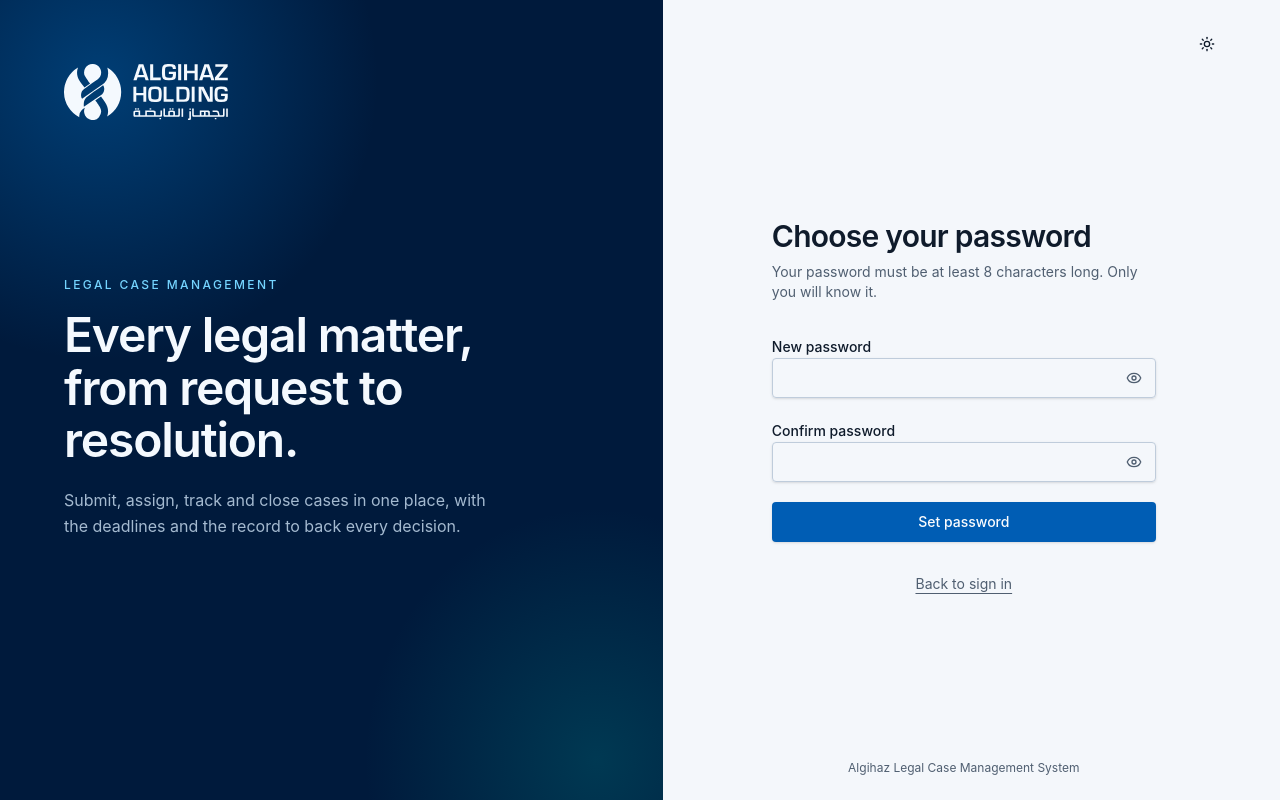
Test: SetPasswordPage › rejects a password shorter than 8 characters
This screenshot has width=1280, height=800.
Expected: the heading "Choose your password" is shown, [772,218,1091,254]
Type "short" into the password field labelled "New password". click: (964, 378)
box: [772,358,1156,398]
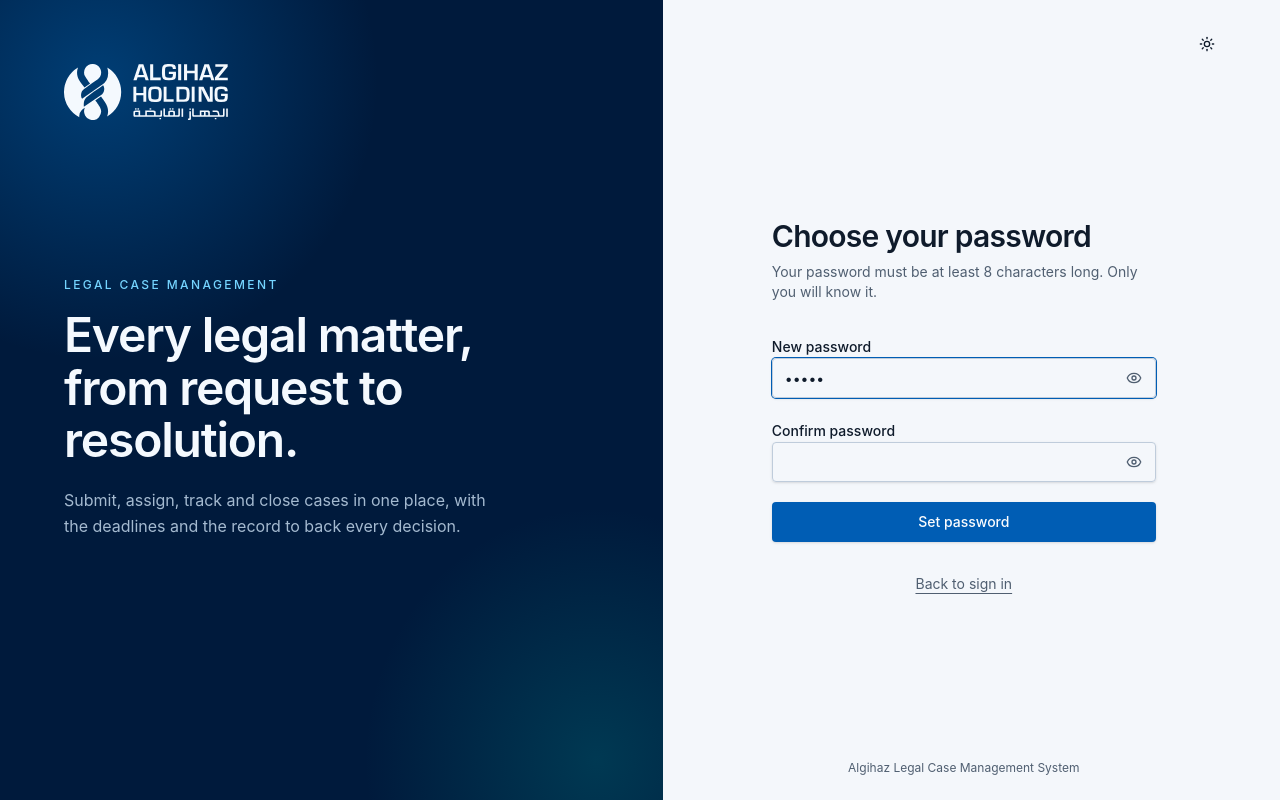
Type "short" into the password field labelled "Confirm password". click: (964, 462)
box: [772,442,1156,482]
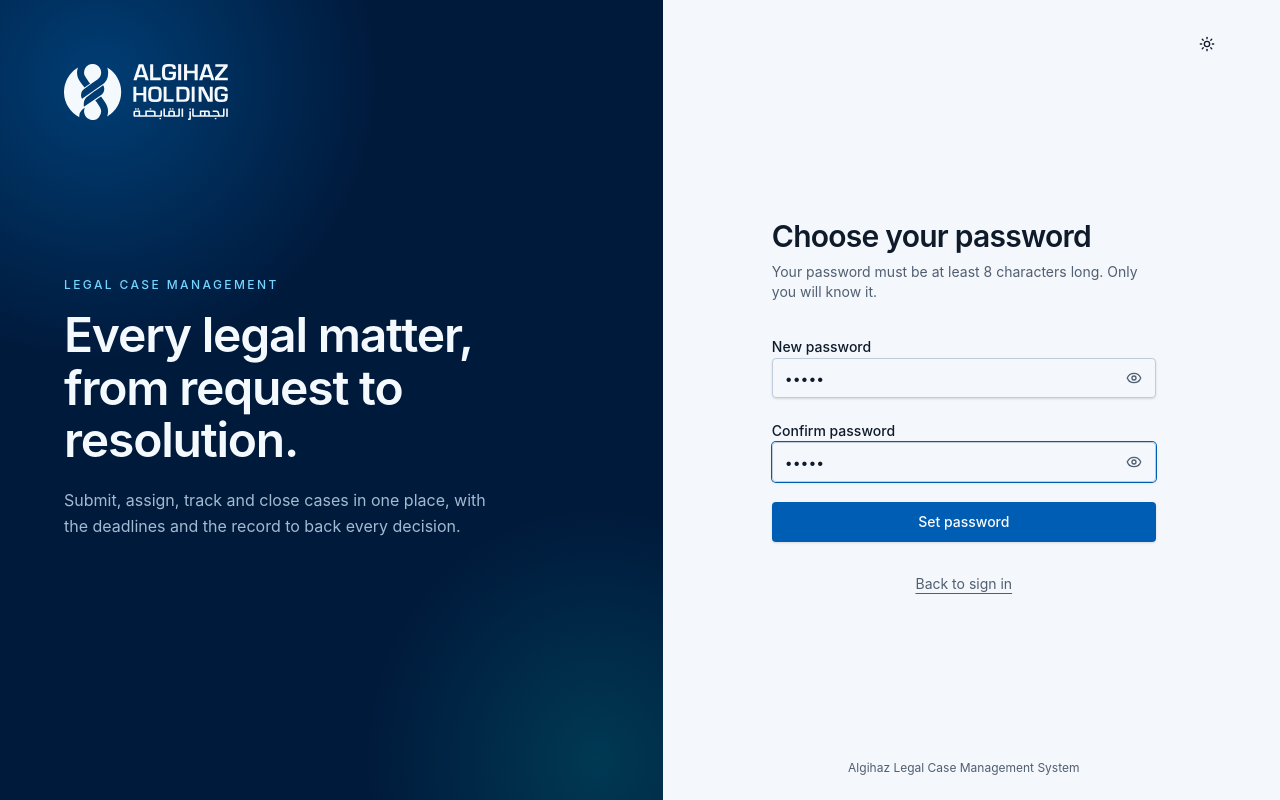
Click the button "Set password". click: (964, 522)
box: [772,502,1156,542]
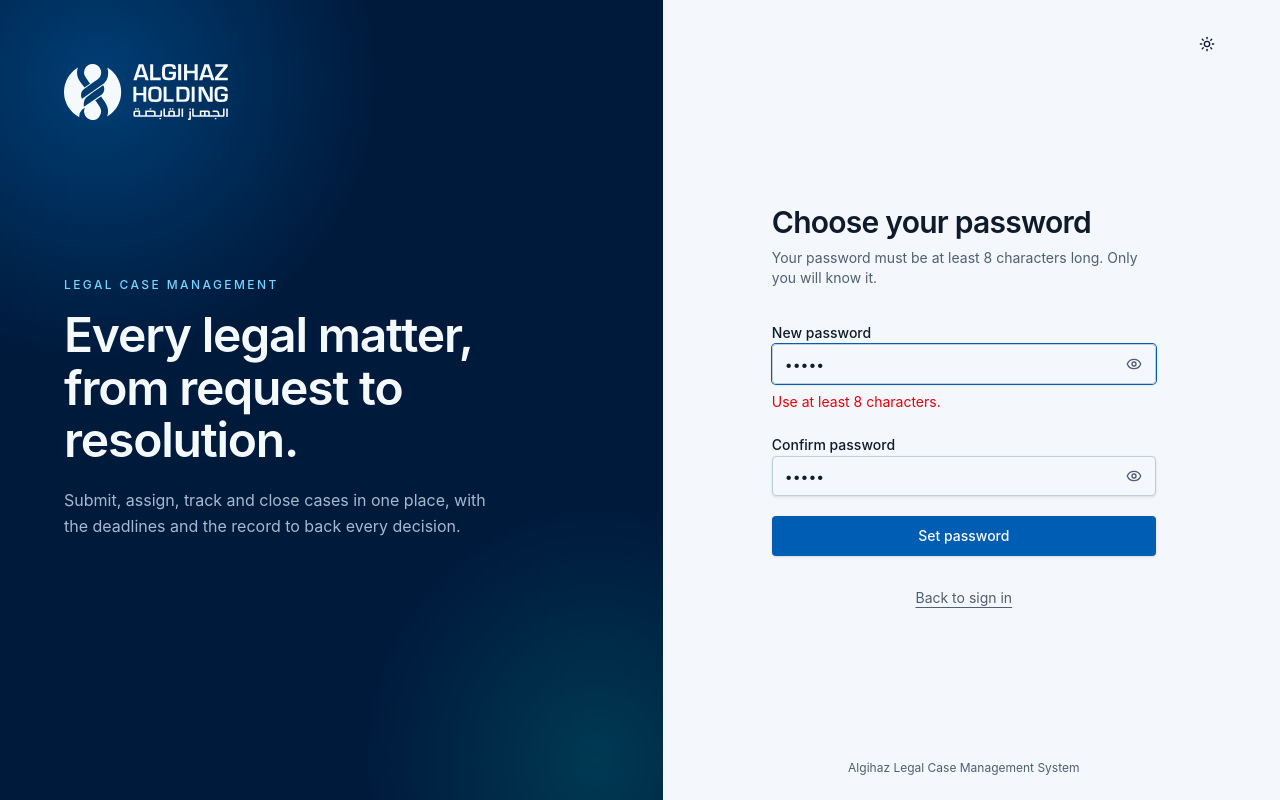
Expected: the text "Use at least 8 characters." is shown, [772,393,941,410]
